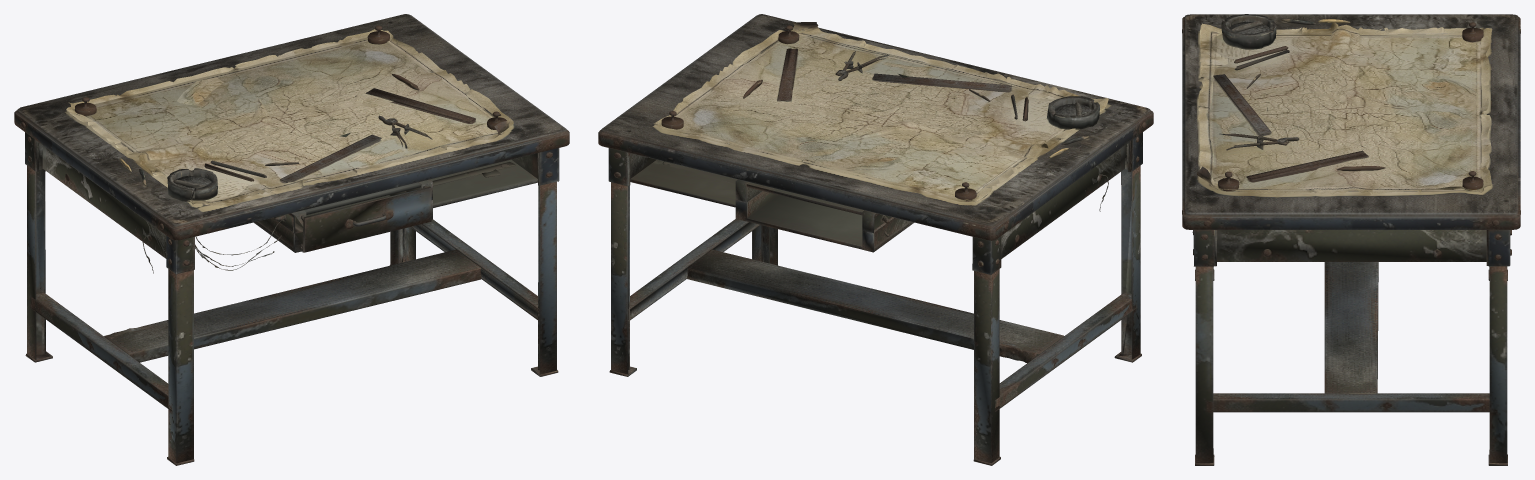
File: silo81_maptable.glb
3 views of the same model, side by side, from view 1: azimuth 30°, elevation 25°; view 2: azimuth 150°, elevation 25°; view 3: azimuth 270°, elevation 25° (orthographic). The views are drawn at different scales.
Bounding box in the file's own units: 0.9497 × 0.5884 × 0.6675.
1 material, 1 textured.
